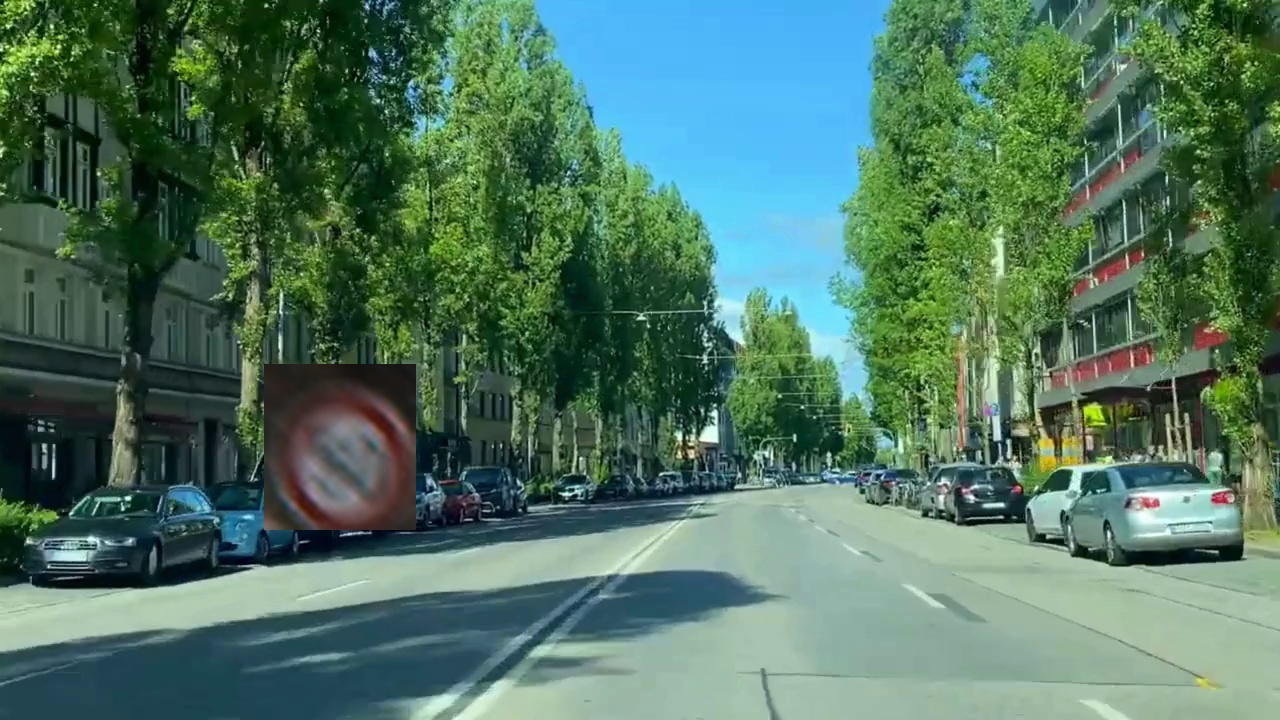Speed 50: (264, 364, 416, 530)
